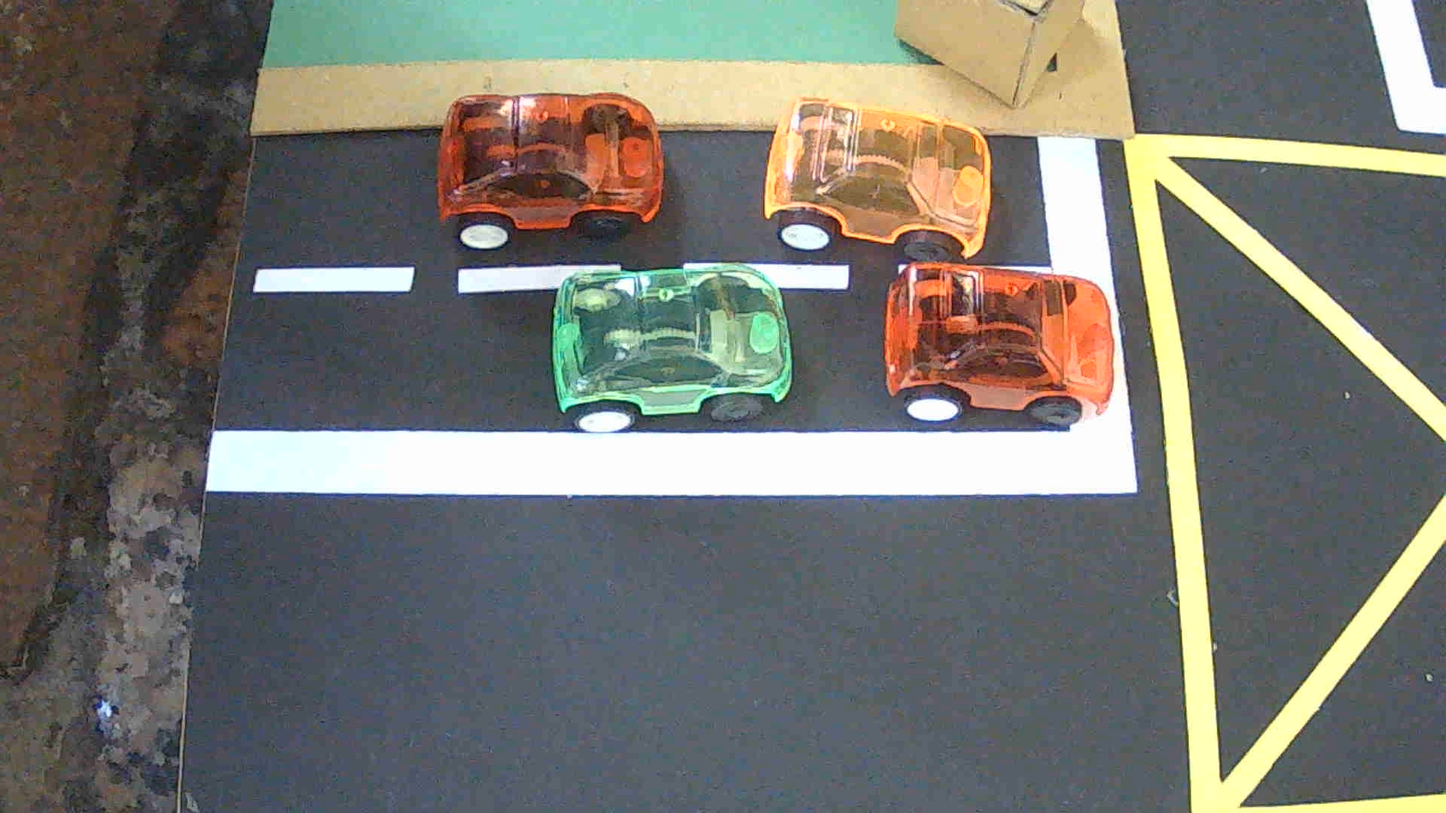Mobil hijau: (552, 263, 791, 431)
Mobil merah: (883, 262, 1115, 427), (438, 93, 664, 250)
Mobil orange: (764, 99, 991, 260)
